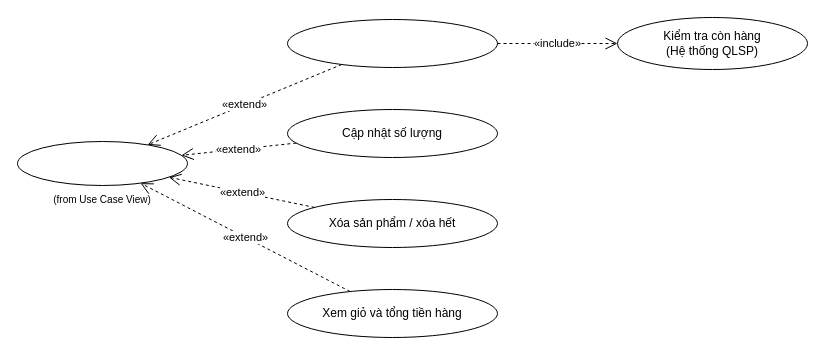
Some shapes in this 825 by 355 pixel diagram are drawn without their labels. Here are the shapes that lost their labels. From the top down, the centre of each, then its label:
At (x=392, y=43): "Thêm sản phẩm vào giỏ".
At (x=102, y=163): "Quản lý giỏ hàng".
